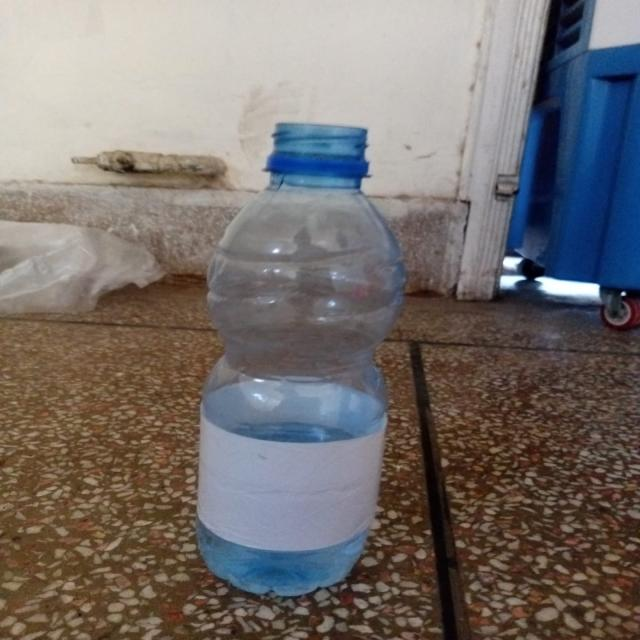bottle: (192, 112, 416, 600)
label: (195, 410, 401, 560)
